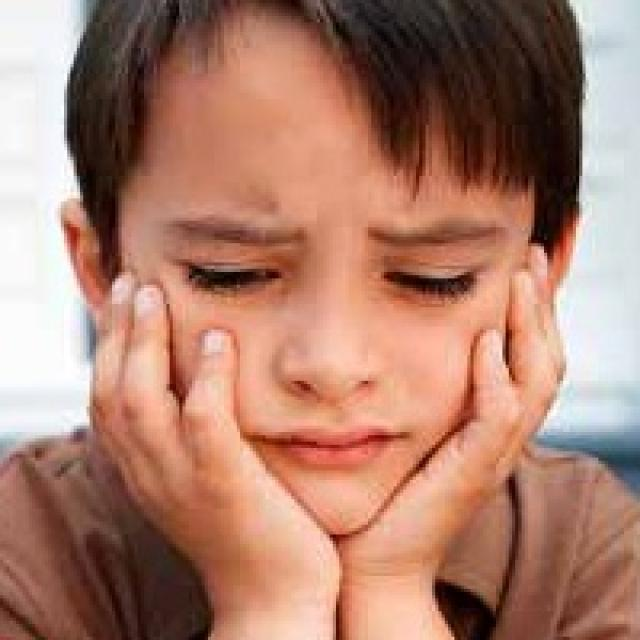Depress: (109, 17, 559, 532)
